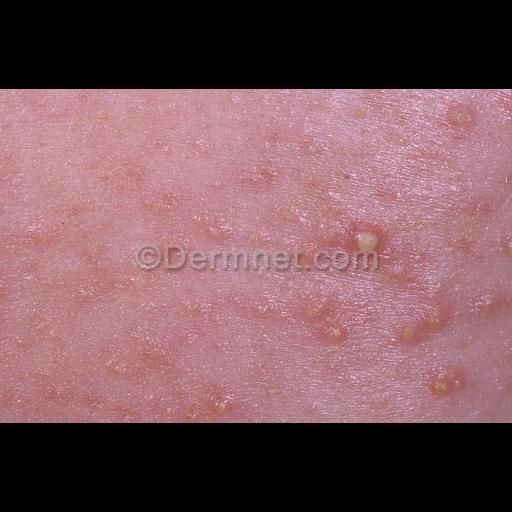Skin_Lesion: (348, 222, 388, 260), (431, 367, 471, 403), (444, 105, 480, 135), (274, 192, 302, 230), (296, 298, 340, 320), (201, 216, 233, 246), (157, 234, 191, 262), (182, 295, 210, 329), (472, 293, 502, 321), (38, 382, 68, 410), (383, 180, 411, 210), (19, 219, 55, 241), (390, 108, 418, 136), (131, 273, 157, 301), (139, 341, 165, 369), (450, 232, 476, 260), (138, 190, 168, 214), (424, 314, 450, 340), (179, 396, 205, 422), (432, 148, 456, 174), (214, 394, 234, 422), (391, 260, 409, 290), (248, 233, 274, 253), (397, 324, 419, 346), (96, 102, 114, 128), (406, 218, 428, 238), (328, 326, 348, 346), (250, 296, 270, 316), (469, 202, 493, 218), (74, 284, 92, 304), (152, 144, 176, 158), (128, 164, 146, 182), (421, 284, 441, 298), (260, 134, 278, 148), (307, 142, 319, 158), (262, 163, 274, 177), (109, 359, 119, 373)
